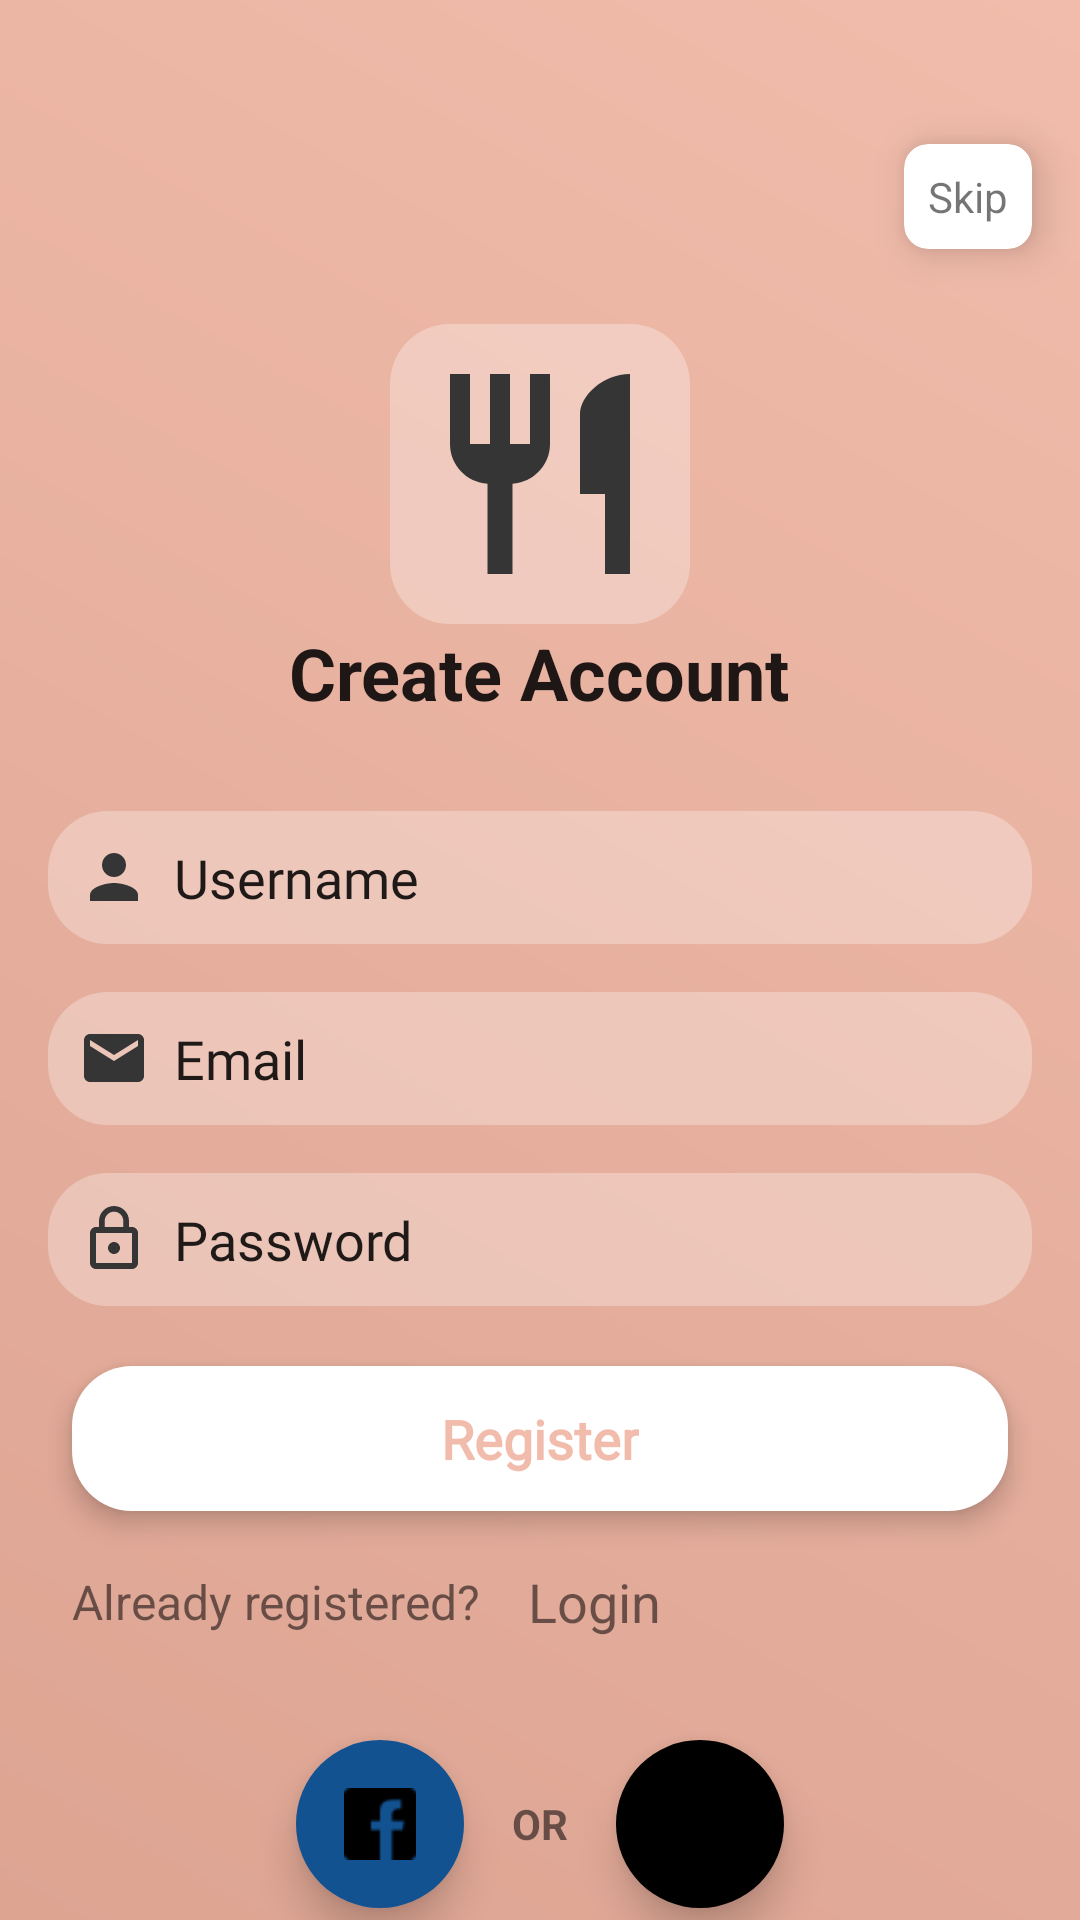

Where icons sit on this 1080x1920 app screen, as (x1, y1, x2, y2):
restaurant: (390, 324, 690, 624)
